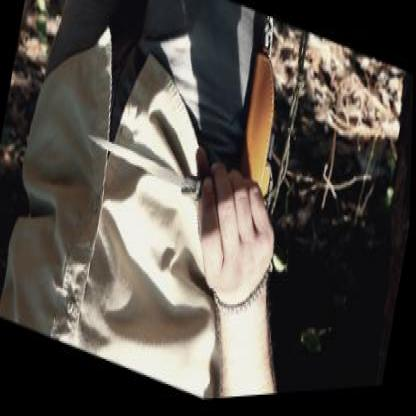knife: (71, 86, 278, 287)
